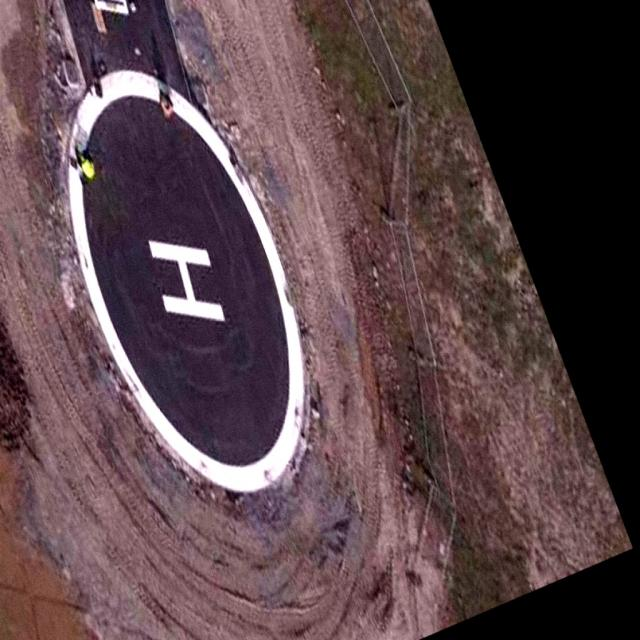helipad: (61, 62, 308, 492)
